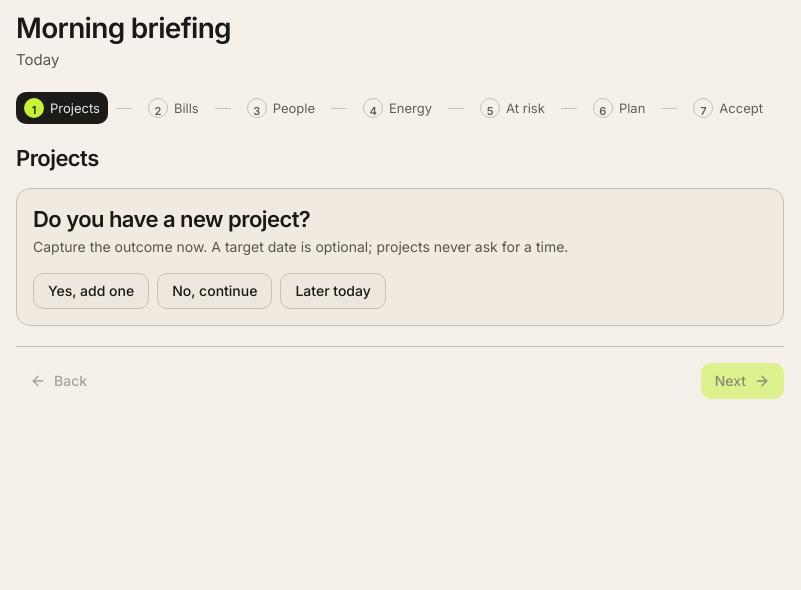
Test: MorningFlow › schedules Later today back to the exact morning question
Click the button "Later today" at (333, 291), box [280,273,386,309]
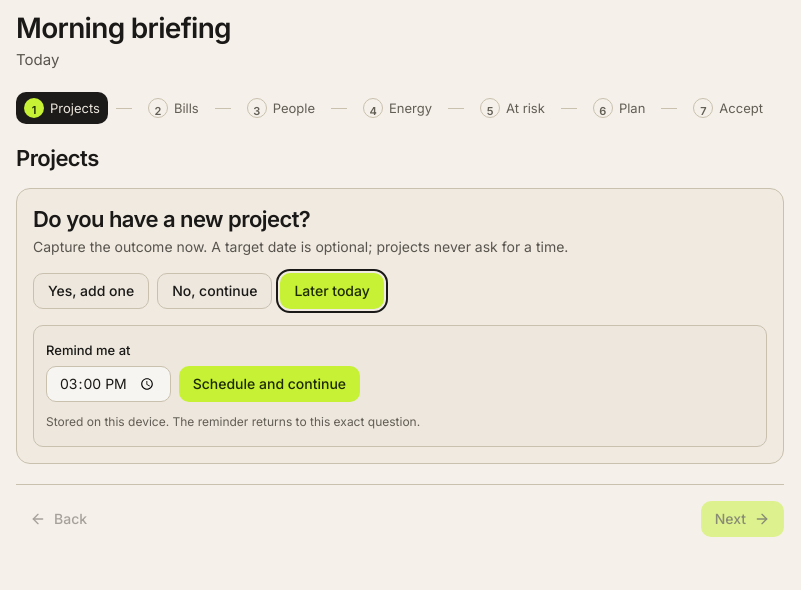
Type "10:30" into the time field labelled "Remind me at" at (108, 384), box [46,366,171,402]
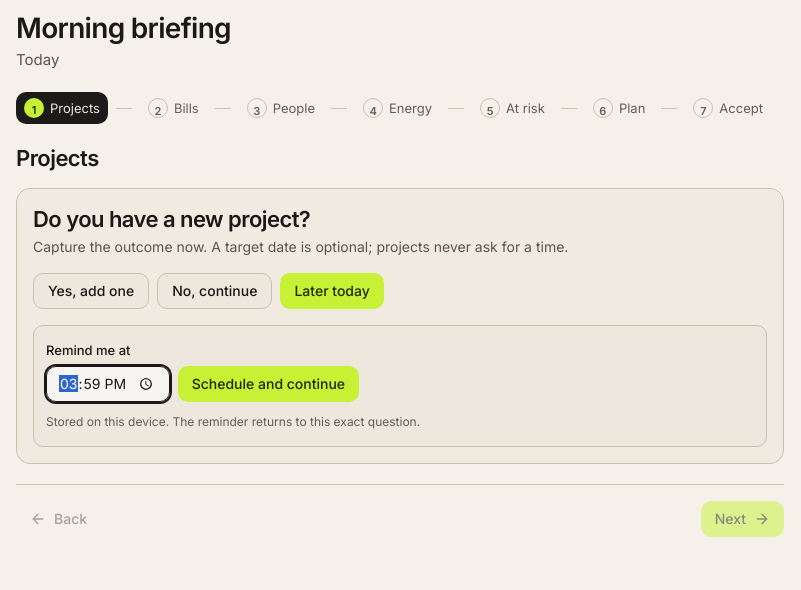
Click the button "Schedule and continue" at (268, 384), box [178,366,359,402]
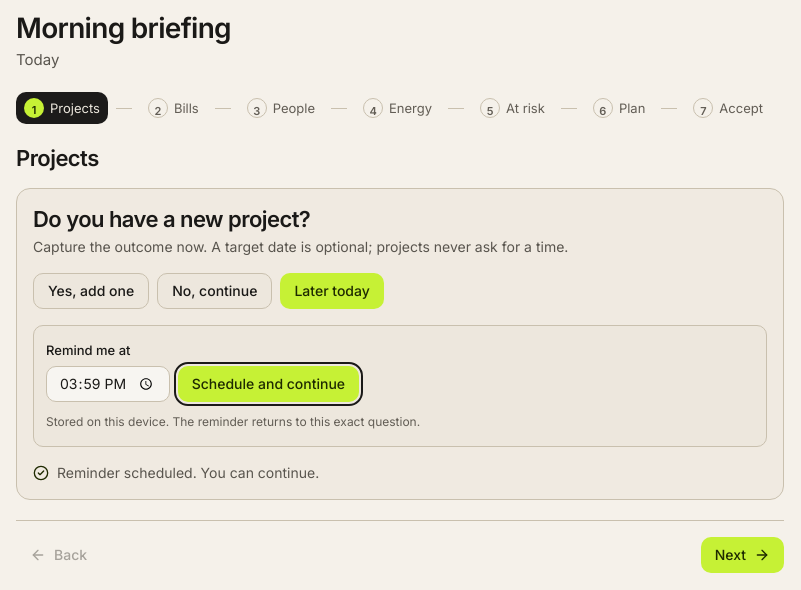
Check: the button "Next" is enabled, box [701,537,784,573]
